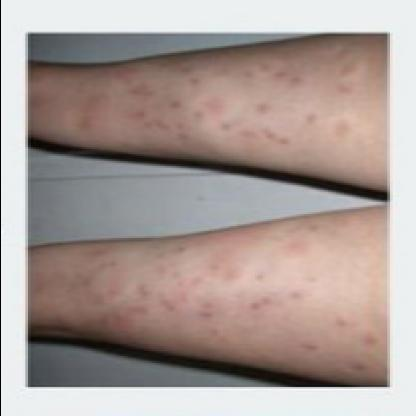Bed Bug: (130, 103, 198, 147), (94, 250, 154, 298), (208, 242, 262, 284), (245, 60, 310, 91), (330, 46, 370, 96), (165, 246, 192, 318), (222, 123, 294, 149), (106, 307, 148, 344), (78, 98, 114, 140), (114, 67, 156, 99), (197, 294, 224, 342), (173, 63, 205, 88), (246, 99, 281, 118), (249, 296, 278, 318), (214, 50, 232, 84), (281, 243, 313, 262), (200, 96, 230, 116), (348, 356, 372, 378), (294, 339, 324, 356), (292, 282, 314, 304), (335, 118, 354, 142), (362, 330, 384, 348), (332, 315, 351, 334), (308, 222, 327, 236), (308, 110, 322, 128)
